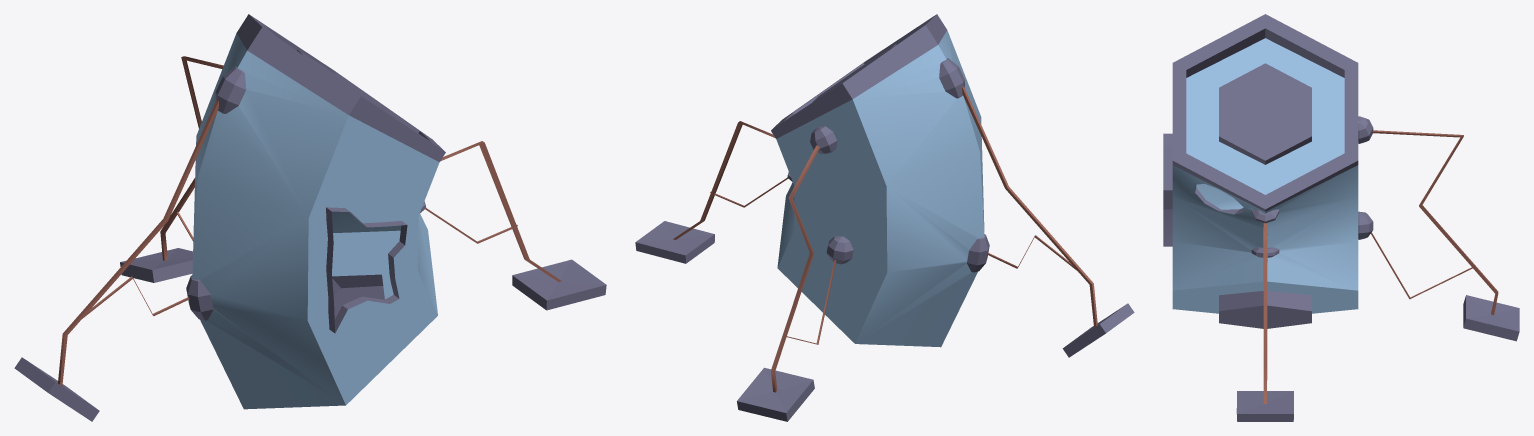
The model's file is mediumspacetrash_kind2.fbx.
3 renders of one model, left to right at view 1: azimuth 30°, elevation 25°; view 2: azimuth 150°, elevation 25°; view 3: azimuth 270°, elevation 25°, orthographic. The views are drawn at different scales.
Parts seen in each view (by area): view 1: pPlane10, pCube4, pCube3, pCube5; view 2: pPlane10, pCube5, pCube4, pCube3; view 3: pPlane10, pCube5, pCube4.
Boxes of the visible parts, x1=… form: pPlane10: x1=186, y1=14, x2=445, y2=409; pCube4: x1=425, y1=141, x2=606, y2=310; pCube3: x1=14, y1=99, x2=218, y2=421; pCube5: x1=120, y1=56, x2=223, y2=282; pPlane10: x1=771, y1=14, x2=989, y2=347; pCube5: x1=737, y1=145, x2=836, y2=421; pCube4: x1=635, y1=121, x2=787, y2=263; pCube3: x1=962, y1=86, x2=1134, y2=357; pPlane10: x1=1163, y1=14, x2=1373, y2=328; pCube5: x1=1370, y1=130, x2=1519, y2=341; pCube4: x1=1236, y1=223, x2=1293, y2=421.
Size of the model in its own units: 497 by 321 by 333.
